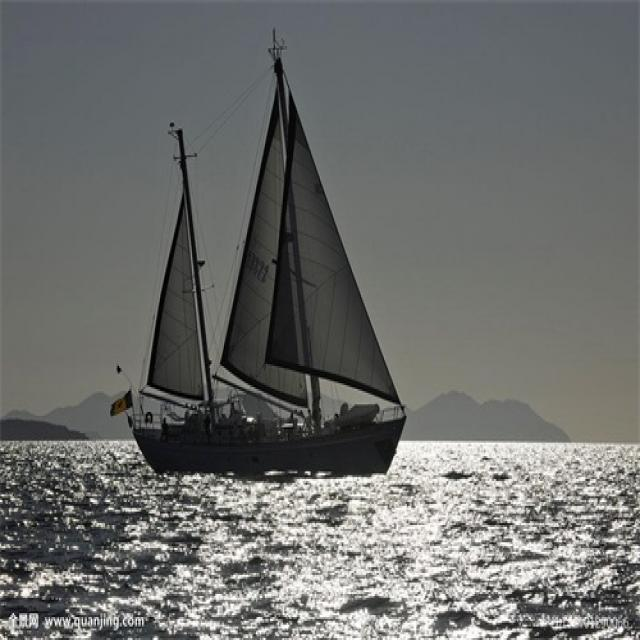Ship: (127, 57, 407, 477)
